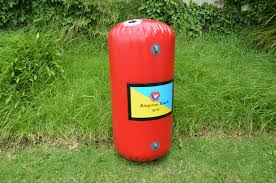buoy: (107, 19, 176, 159)
